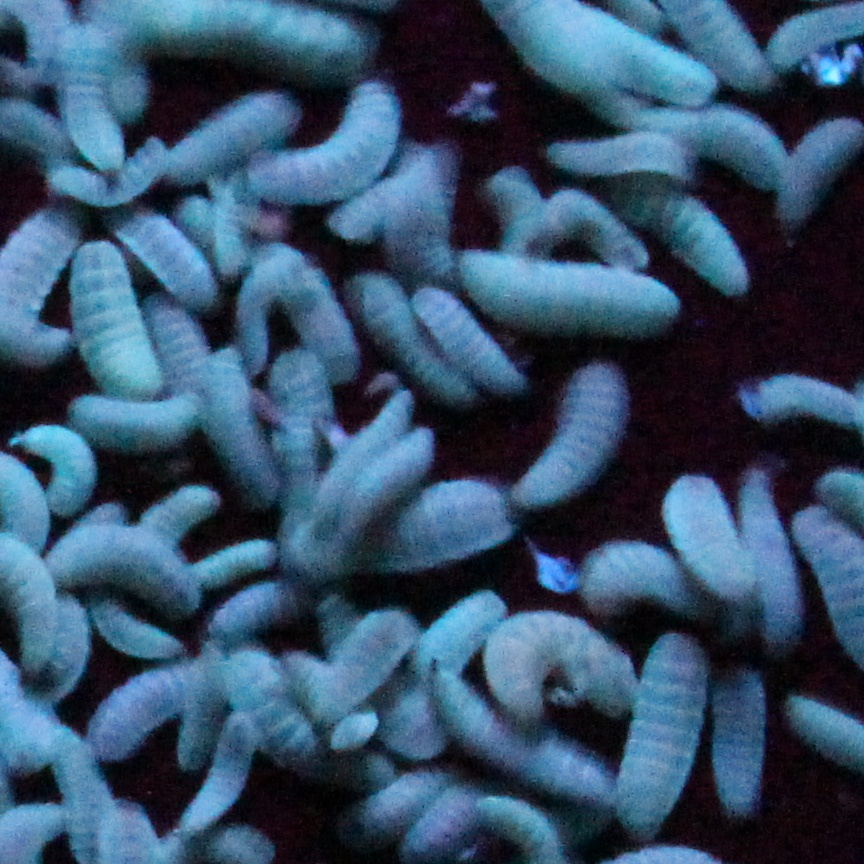larve: (456, 249, 686, 341), (241, 84, 401, 211), (431, 676, 607, 787), (348, 270, 477, 406), (603, 182, 760, 291), (511, 360, 625, 506), (624, 636, 705, 834), (67, 239, 167, 399), (231, 249, 354, 371), (484, 608, 628, 708), (348, 480, 511, 568), (48, 530, 198, 617), (665, 475, 753, 604), (205, 351, 279, 504), (58, 25, 130, 180), (315, 608, 413, 721), (415, 291, 527, 389), (169, 94, 294, 181), (92, 659, 187, 760), (266, 352, 337, 484), (117, 209, 214, 304), (541, 132, 699, 186), (13, 420, 96, 520), (186, 719, 253, 831), (715, 665, 765, 808), (342, 763, 447, 824)
